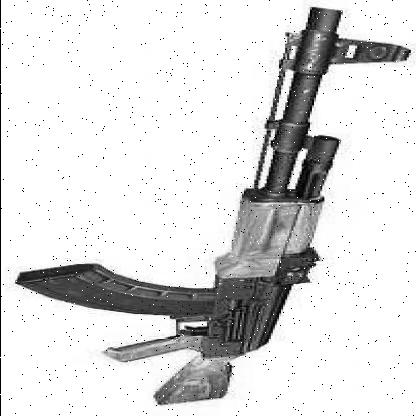rifle: (8, 3, 381, 409)
